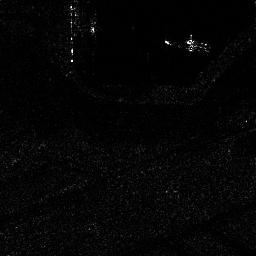ship: (164, 35, 211, 54)
